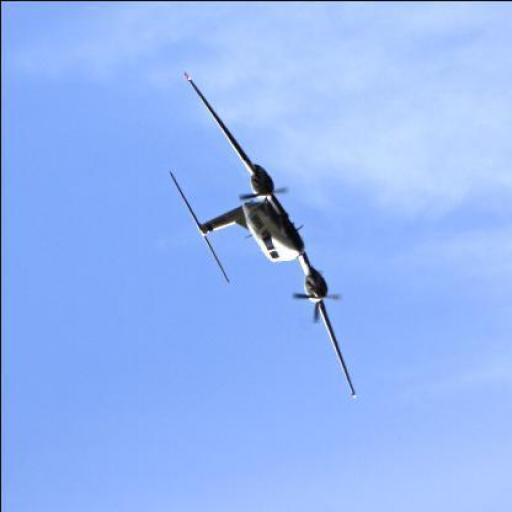aircraft: (164, 68, 360, 401)
